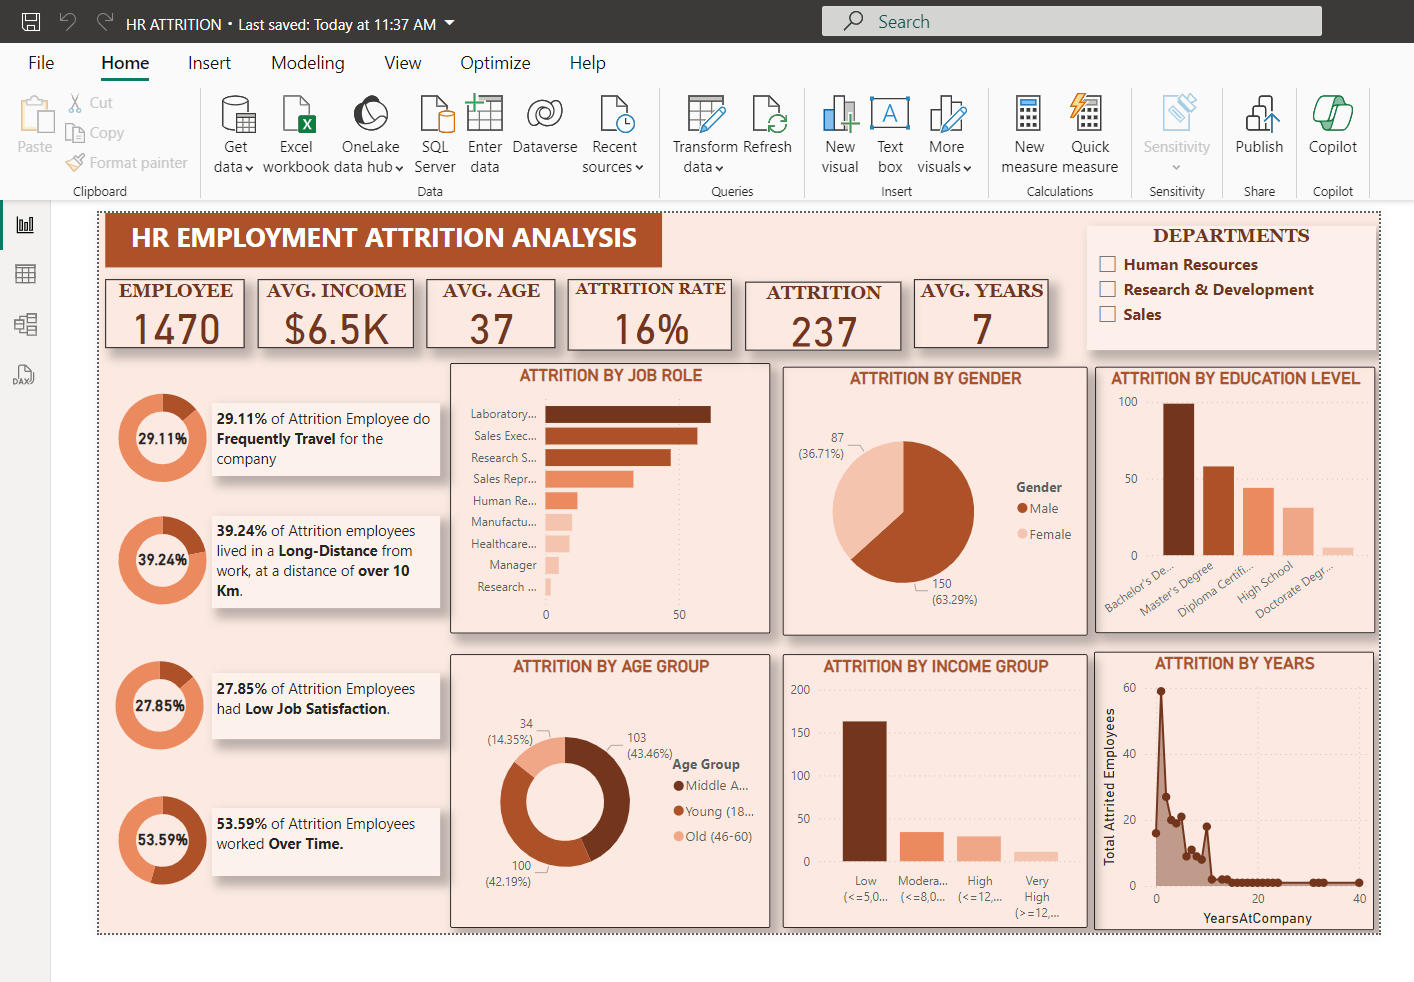

Layout of this report page (visuals, bound fields, positions):
{"tool":"powerbi","page":{"name":"Page 2","canvas":[1280,720],"ordinal":0},"visuals":[{"type":"card","title":"EMPLOYEE","fields":{"Values":["My Measures.Total Employees"]},"box":[6.1,66.7,139.3,69],"z":0},{"type":"card","title":"ATTRITION","fields":{"Values":["My Measures.Total Attrited Employees"]},"box":[645.7,69,156,69],"z":1000},{"type":"card","title":"ATTRITION RATE","fields":{"Values":["My Measures.Attrition Rate"]},"box":[468.5,66.7,164.3,71.4],"z":2000},{"type":"card","title":"AVG. AGE","fields":{"Values":["My Measures.Avg. Age"]},"box":[327.1,66.7,128.6,69],"z":3000},{"type":"card","title":"AVG. INCOME","fields":{"Values":["My Measures.Avg. Salary"]},"box":[158.3,66.7,156,69],"z":4000},{"type":"card","title":"AVG. YEARS","fields":{"Values":["My Measures.Avg. Years In Company"]},"box":[814.5,66.7,134.5,69],"z":5000},{"type":"clusteredBarChart","title":"ATTRITION BY JOB ROLE","fields":{"Y":["My Measures.Total Attrited Employees"],"Category":["HR-Employee-Attrition.JobRole"]},"box":[351.4,150,320.2,270.2],"z":6000},{"type":"pieChart","title":"ATTRITION BY GENDER","fields":{"Category":["HR-Employee-Attrition.Gender"],"Y":["My Measures.Total Attrited Employees"]},"box":[683.3,153.6,304.8,269],"z":7000},{"type":"donutChart","title":"ATTRITION BY AGE GROUP","fields":{"Y":["My Measures.Total Attrited Employees"],"Category":["HR-Employee-Attrition.Age Group"]},"box":[351.4,441.7,320.2,273.8],"z":8000},{"type":"columnChart","title":"ATTRITION BY INCOME GROUP","fields":{"Category":["HR-Employee-Attrition.Income Group"],"Y":["My Measures.Total Attrited Employees"]},"box":[683.3,441.7,304.8,273.8],"z":9000},{"type":"columnChart","title":"ATTRITION BY EDUCATION LEVEL","fields":{"Category":["HR-Employee-Attrition.Eduction Level"],"Y":["My Measures.Total Attrited Employees"]},"box":[996.2,153.8,280,266.2],"z":10000},{"type":"areaChart","title":"ATTRITION BY YEARS","fields":{"Category":["HR-Employee-Attrition.YearsAtCompany"],"Y":["My Measures.Total Attrited Employees"]},"box":[995,438.8,280,278.8],"z":11000},{"type":"textbox","box":[6,0,557.1,54.8],"z":12000},{"type":"slicer","title":"DEPARTMENTS","fields":{"Values":["HR-Employee-Attrition.Department"]},"box":[988.1,13.1,289.3,125],"z":13000},{"type":"donutChart","fields":{"Y":["My Measures.Total Attrited Employees","My Measures.Total Employees"]},"box":[0,165.5,127.4,120.2],"z":14000},{"type":"card","fields":{"Values":["My Measures.% Attrited On Frequent Travels"]},"box":[25,194,77.4,65.5],"z":15000},{"type":"textbox","box":[111.9,190.5,228.6,72.6],"z":16000},{"type":"donutChart","fields":{"Y":["My Measures.Attrited on Low Job-Satisfaction","My Measures.Total Attrited Employees"]},"box":[0,288.1,127.4,120.2],"z":17000},{"type":"card","fields":{"Values":["My Measures.% Attrited On Long distance"]},"box":[25,315.5,77.4,65.5],"z":18000},{"type":"textbox","box":[111.9,302.4,228.6,92.9],"z":19000},{"type":"donutChart","fields":{"Y":["My Measures.Total Attrited Employees","My Measures.Total Employees"]},"box":[0,432.1,121.4,120.2],"z":20000},{"type":"card","fields":{"Values":["My Measures.% Attrited On Low Job Satistfaction"]},"box":[22.6,460.7,77.4,65.5],"z":21000},{"type":"donutChart","fields":{"Y":["My Measures.Total Employees","My Measures.Total Retained Employees"]},"box":[0,567.9,127.4,120.2],"z":22000},{"type":"card","fields":{"Values":["My Measures.% Attrited On Over-time"]},"box":[25,595.2,77.4,65.5],"z":23000},{"type":"textbox","box":[111.9,459.5,228.6,66.7],"z":24000},{"type":"textbox","box":[111.9,595.2,228.6,67.9],"z":25000}]}

Visuals, with their boxes on the page's 1280x720 design canvas (x1, y1, x2, y2). These are canvas units, not pixel positions in the 1414x982 screenshot, which may show the page scaled, cropped or inside an application window:
"EMPLOYEE" card: bbox(6, 67, 145, 136)
"ATTRITION" card: bbox(646, 69, 802, 138)
"ATTRITION RATE" card: bbox(468, 67, 633, 138)
"AVG. AGE" card: bbox(327, 67, 456, 136)
"AVG. INCOME" card: bbox(158, 67, 314, 136)
"AVG. YEARS" card: bbox(814, 67, 949, 136)
"ATTRITION BY JOB ROLE" clusteredBarChart: bbox(351, 150, 672, 420)
"ATTRITION BY GENDER" pieChart: bbox(683, 154, 988, 423)
"ATTRITION BY AGE GROUP" donutChart: bbox(351, 442, 672, 716)
"ATTRITION BY INCOME GROUP" columnChart: bbox(683, 442, 988, 716)
"ATTRITION BY EDUCATION LEVEL" columnChart: bbox(996, 154, 1276, 420)
"ATTRITION BY YEARS" areaChart: bbox(995, 439, 1275, 718)
textbox: bbox(6, 0, 563, 55)
"DEPARTMENTS" slicer: bbox(988, 13, 1277, 138)
donutChart - My Measures.Total Attrited Employees x My Measures.Total Employees: bbox(0, 166, 127, 286)
card - My Measures.% Attrited On Frequent Travels: bbox(25, 194, 102, 260)
textbox: bbox(112, 190, 340, 263)
donutChart - My Measures.Attrited on Low Job-Satisfaction x My Measures.Total Attrited Employees: bbox(0, 288, 127, 408)
card - My Measures.% Attrited On Long distance: bbox(25, 316, 102, 381)
textbox: bbox(112, 302, 340, 395)
donutChart - My Measures.Total Attrited Employees x My Measures.Total Employees: bbox(0, 432, 121, 552)
card - My Measures.% Attrited On Low Job Satistfaction: bbox(23, 461, 100, 526)
donutChart - My Measures.Total Employees x My Measures.Total Retained Employees: bbox(0, 568, 127, 688)
card - My Measures.% Attrited On Over-time: bbox(25, 595, 102, 661)
textbox: bbox(112, 460, 340, 526)
textbox: bbox(112, 595, 340, 663)
